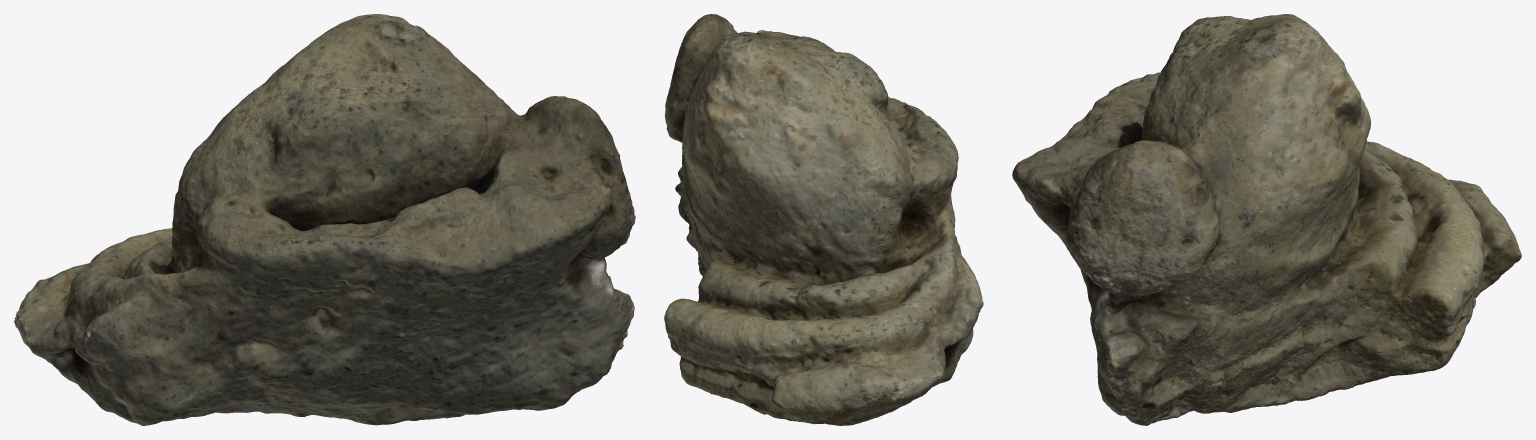
The picture shows the model from 3 angles, left to right: view 1: azimuth 30°, elevation 25°; view 2: azimuth 150°, elevation 25°; view 3: azimuth 270°, elevation 25°; orthographic projection. The views are drawn at different scales.
Visible parts, largest first — view 1: Mesh_0.004; view 2: Mesh_0.004; view 3: Mesh_0.004.
Part boxes in pixels (<box>): Mesh_0.004: <box>14,14,635,425</box>; Mesh_0.004: <box>664,14,983,425</box>; Mesh_0.004: <box>1012,14,1521,425</box>.
Bounding box in the file's own units: 0.0967 × 0.0767 × 0.0958.
Materials: 1 (1 with a texture image).
